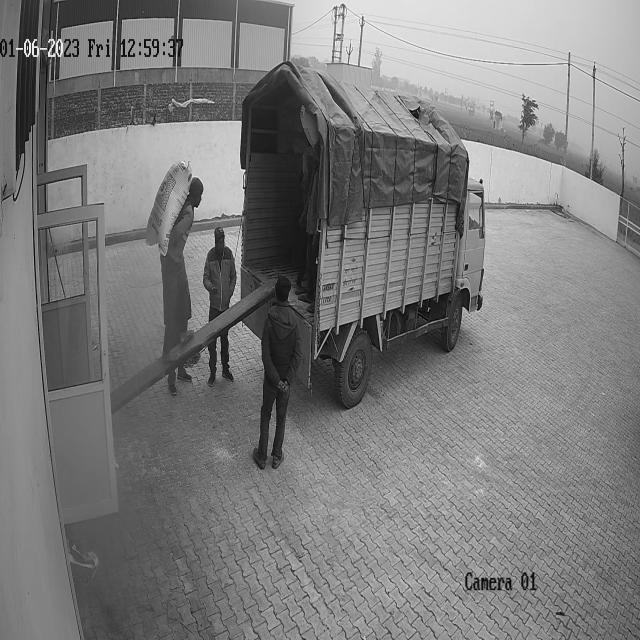sack: (145, 159, 192, 257)
